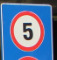speed_limit_5: (10, 11, 45, 53)
